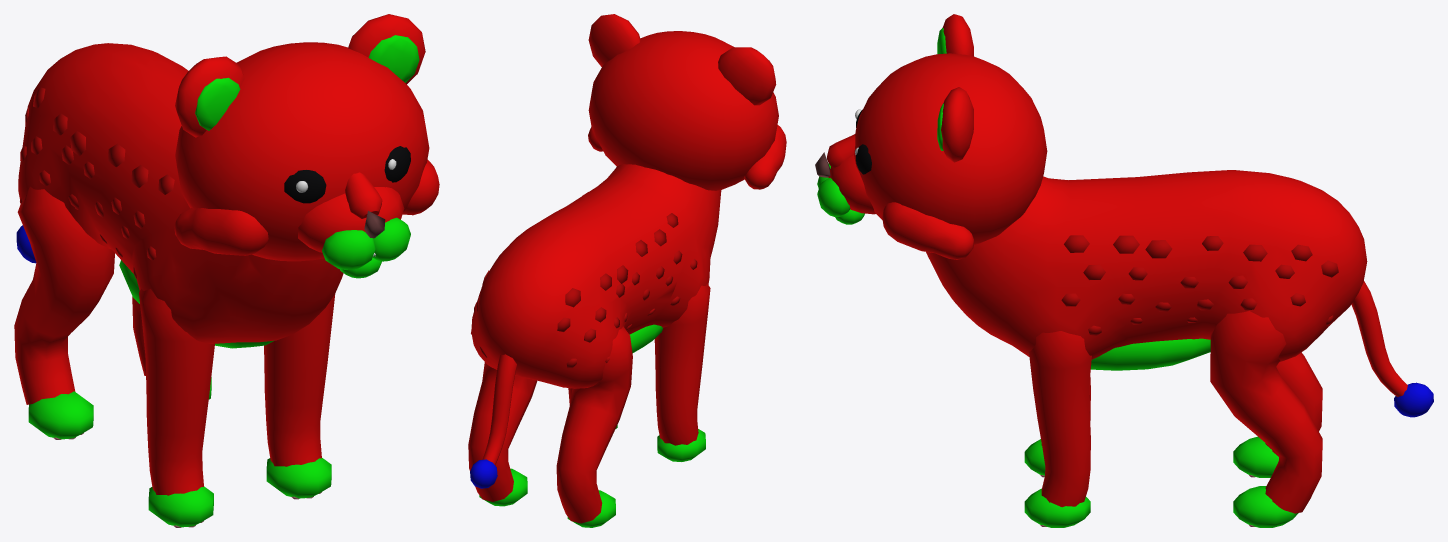
Rendered from Lion_Adult.fbx.
3 renders of one model, left to right at view 1: azimuth 30°, elevation 25°; view 2: azimuth 150°, elevation 25°; view 3: azimuth 270°, elevation 25°, orthographic. The views are drawn at different scales.
Visible parts, largest first — view 1: Lion_Adult; view 2: Lion_Adult; view 3: Lion_Adult.
Part boxes in pixels (<box>): Lion_Adult: <box>14,14,439,527</box>; Lion_Adult: <box>468,14,786,527</box>; Lion_Adult: <box>815,14,1433,527</box>.
Size of the model in its own units: 0.717 by 1.41 by 1.78.
